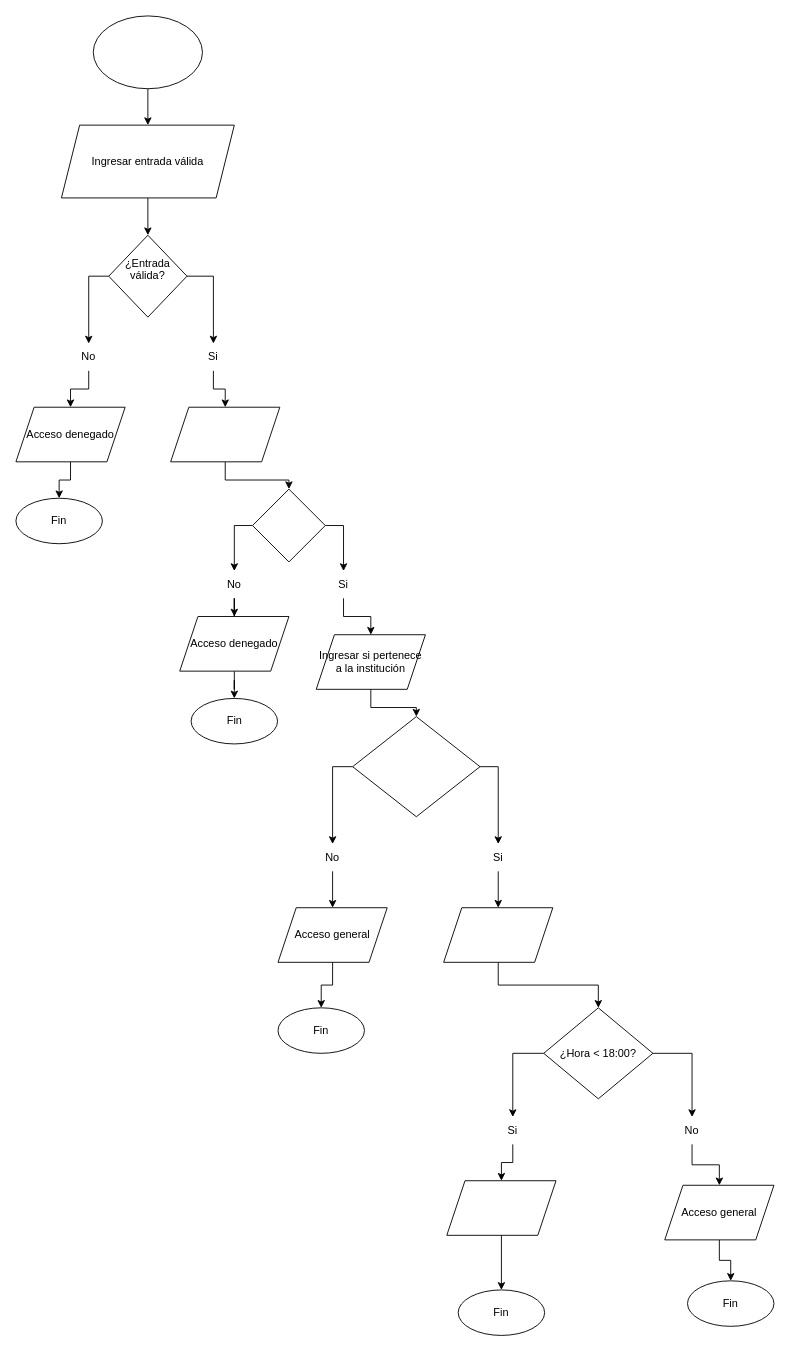
Some shapes in this 790 by 1351 pixel diagram are drawn without their labels. Each missing label, with the box of its shape:
Acceso preferencial: (446, 1180, 556, 1235)
Ingresar edad: (170, 406, 280, 462)
Ingresar hora: (443, 907, 553, 962)
Inicio: (92, 15, 202, 89)
¿Edad ≥ 18?: (252, 488, 325, 562)
¿Pertenece a la institución?: (352, 716, 480, 817)
